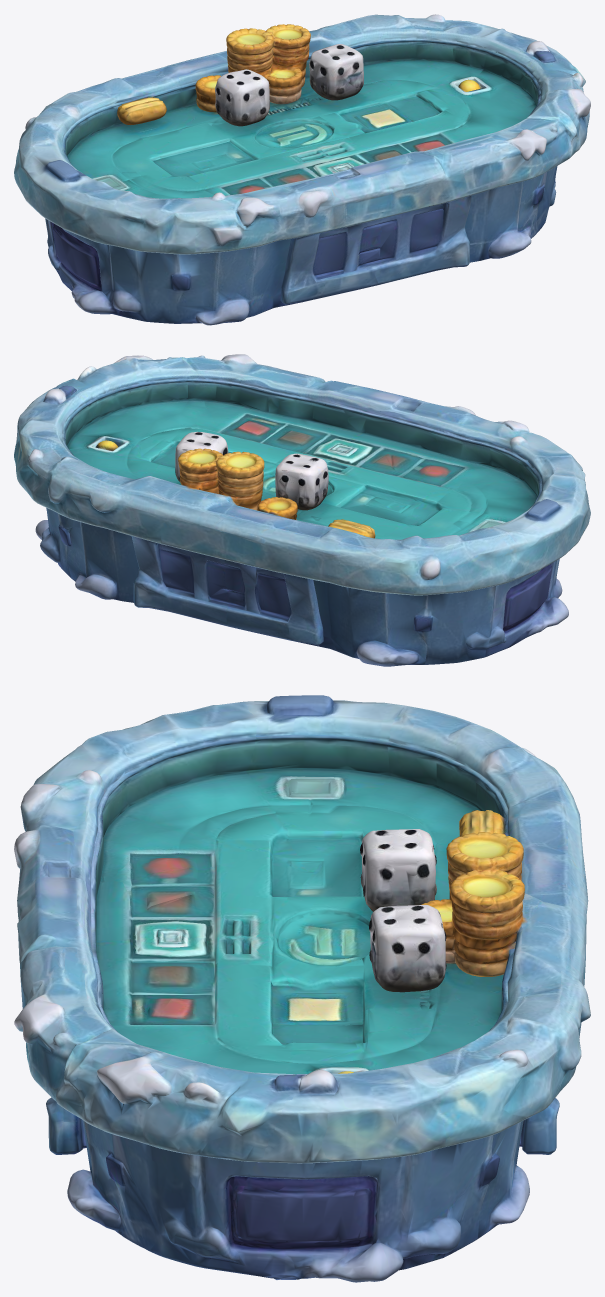
The model's file is pv-craps-empty-diet.glb.
3 renders of one model, top to bottom at view 1: azimuth 30°, elevation 25°; view 2: azimuth 150°, elevation 25°; view 3: azimuth 270°, elevation 25°, orthographic. The views are drawn at different scales.
Parts seen in each view (by area): view 1: tripo_node_fadbe20b-b685-4378-83e1-a135d9061fb7; view 2: tripo_node_fadbe20b-b685-4378-83e1-a135d9061fb7; view 3: tripo_node_fadbe20b-b685-4378-83e1-a135d9061fb7.
Part boxes in pixels (x1,y1,x2,y2): tripo_node_fadbe20b-b685-4378-83e1-a135d9061fb7: [14, 14, 590, 325]; tripo_node_fadbe20b-b685-4378-83e1-a135d9061fb7: [14, 354, 590, 666]; tripo_node_fadbe20b-b685-4378-83e1-a135d9061fb7: [14, 695, 590, 1282].
Size of the model in its own units: 0.9822 by 0.2904 by 0.5792.
Materials: 1 (1 with a texture image).
